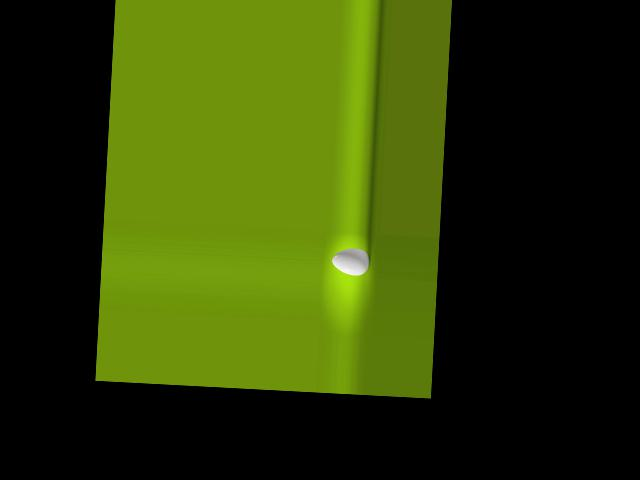egg: (331, 246, 370, 276)
